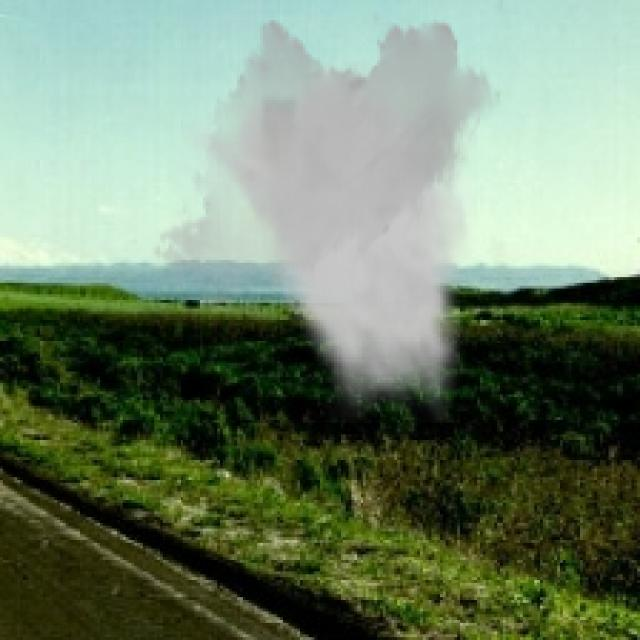smoke: (151, 8, 503, 423)
